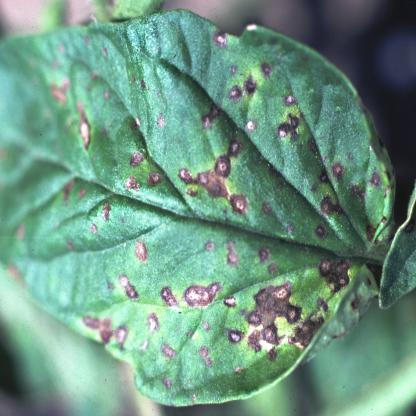Tomato Septoria leaf spot: (0, 9, 385, 406)
